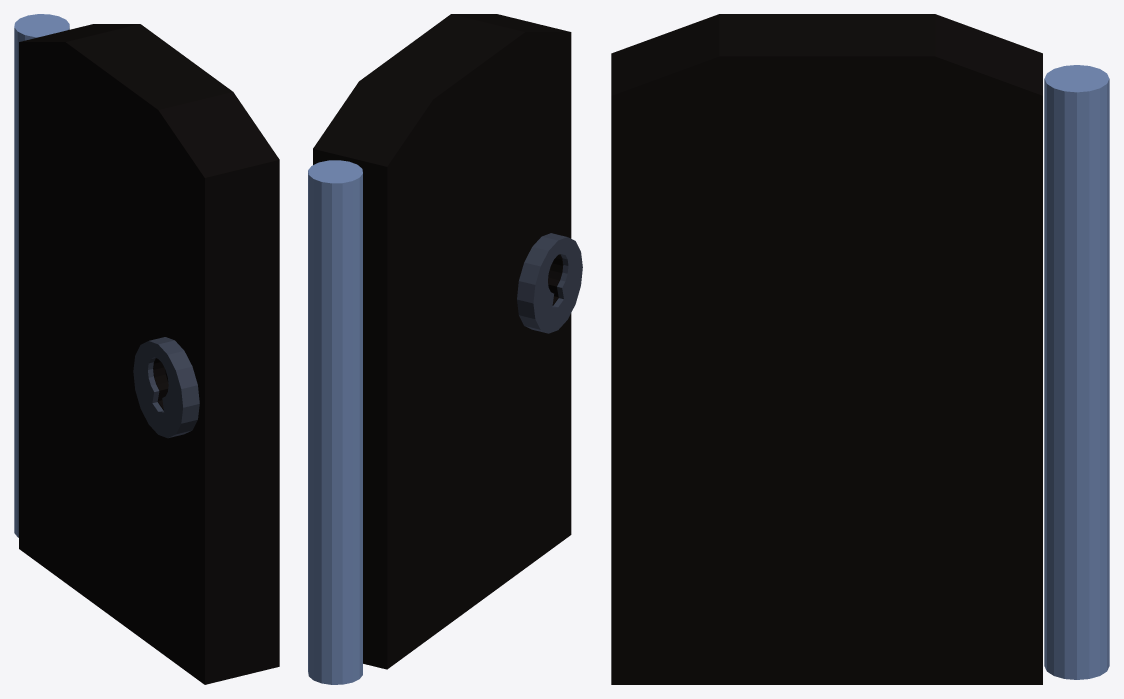
The model's file is Deur.obj.
3 renders of one model, left to right at view 1: azimuth 30°, elevation 25°; view 2: azimuth 150°, elevation 25°; view 3: azimuth 270°, elevation 25°, orthographic. The views are drawn at different scales.
Parts seen in each view (by area): view 1: Cube, Cylinder.003, Cylinder.001, Cylinder.002; view 2: Cube, Cylinder.001, Cylinder.003, Cylinder.002; view 3: Cube, Cylinder.001.
Part boxes in pixels (left/top/right/bottom): Cube: left=19, top=24, right=279, bottom=684; Cylinder.003: left=133, top=337, right=199, bottom=438; Cylinder.001: left=14, top=14, right=69, bottom=537; Cylinder.002: left=153, top=358, right=168, bottom=410; Cube: left=313, top=14, right=571, bottom=669; Cylinder.001: left=308, top=160, right=362, bottom=684; Cylinder.003: left=517, top=233, right=582, bottom=333; Cylinder.002: left=548, top=254, right=563, bottom=305; Cube: left=611, top=14, right=1042, bottom=684; Cylinder.001: left=1044, top=65, right=1109, bottom=679.
Bounding box in the file's own units: 0.4133 × 2.34 × 1.68.
